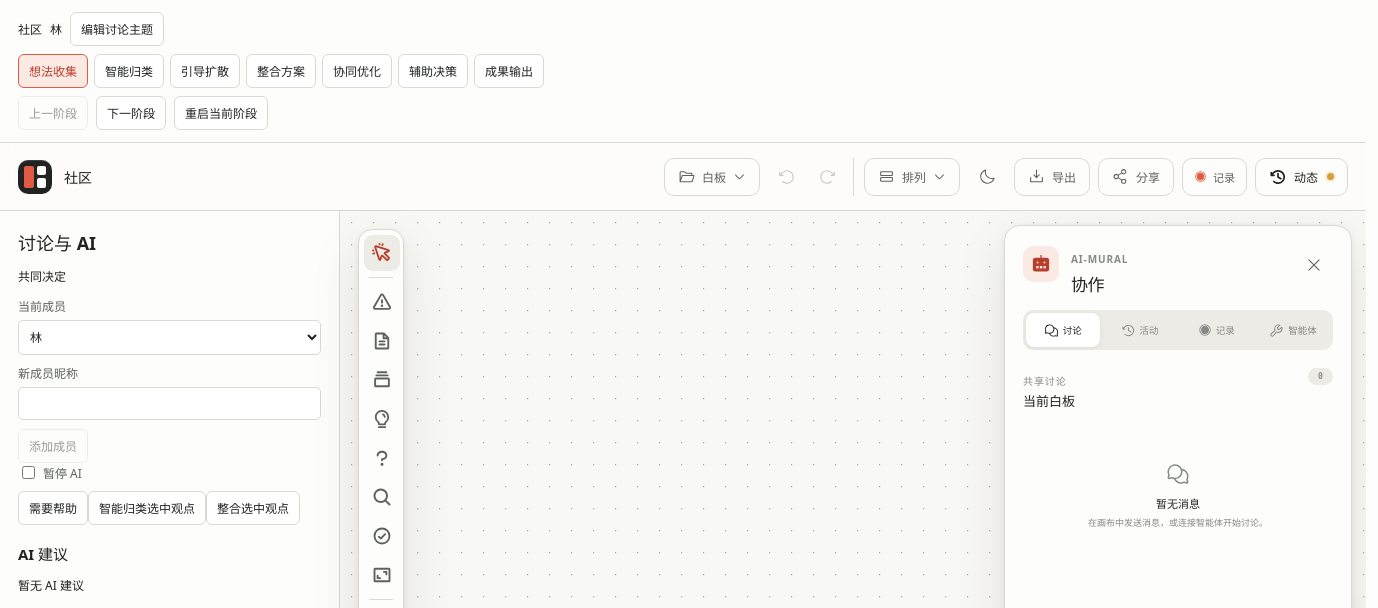
请求期间新增观点，旧回复明确拒绝且人工观点保留
The image size is (1378, 608).
Click the button "需要帮助".
click(53, 508)  # box [18,491,88,525]
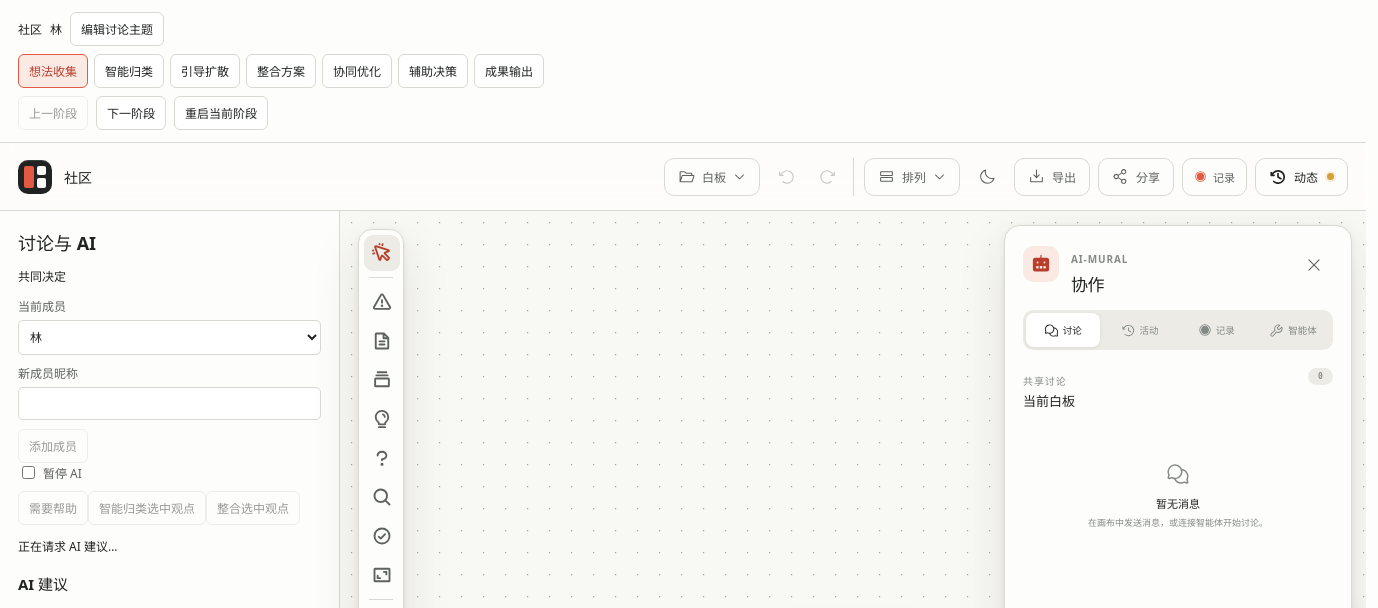
Click the button named "添加观点".
click(382, 419)  # box [364,401,400,437]
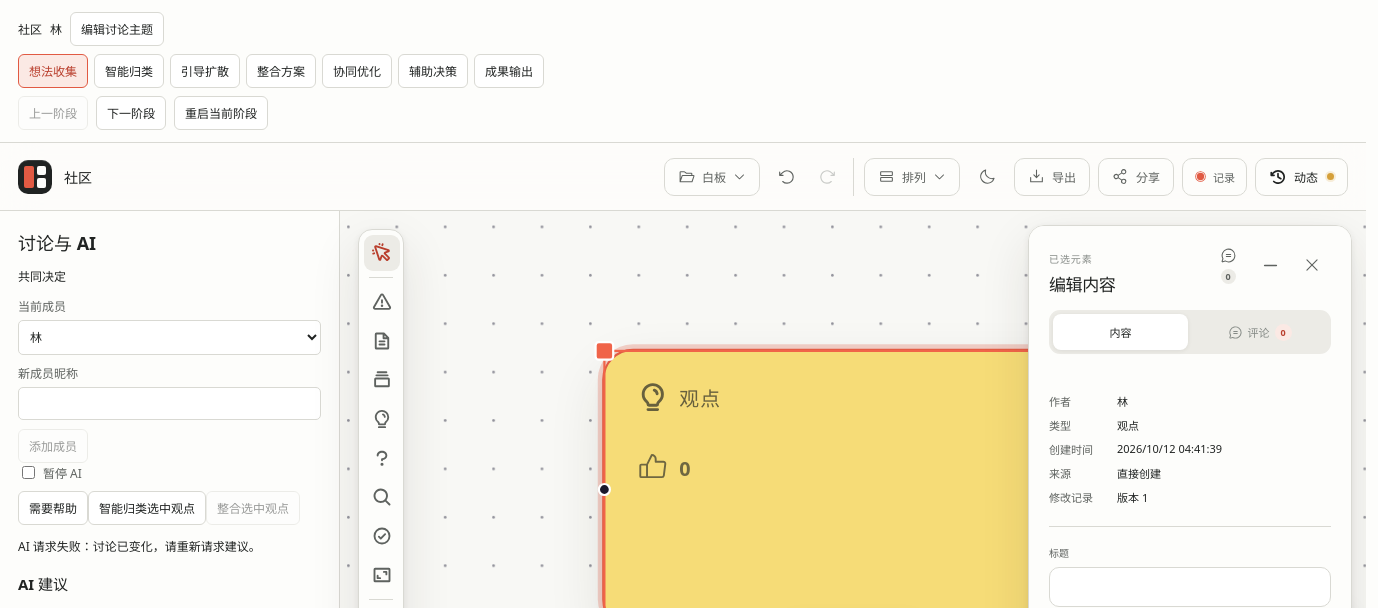
Check: the text "AI 请求失败：讨论已变化，请重新请求建议。" is shown, box [18,538,261,555]
